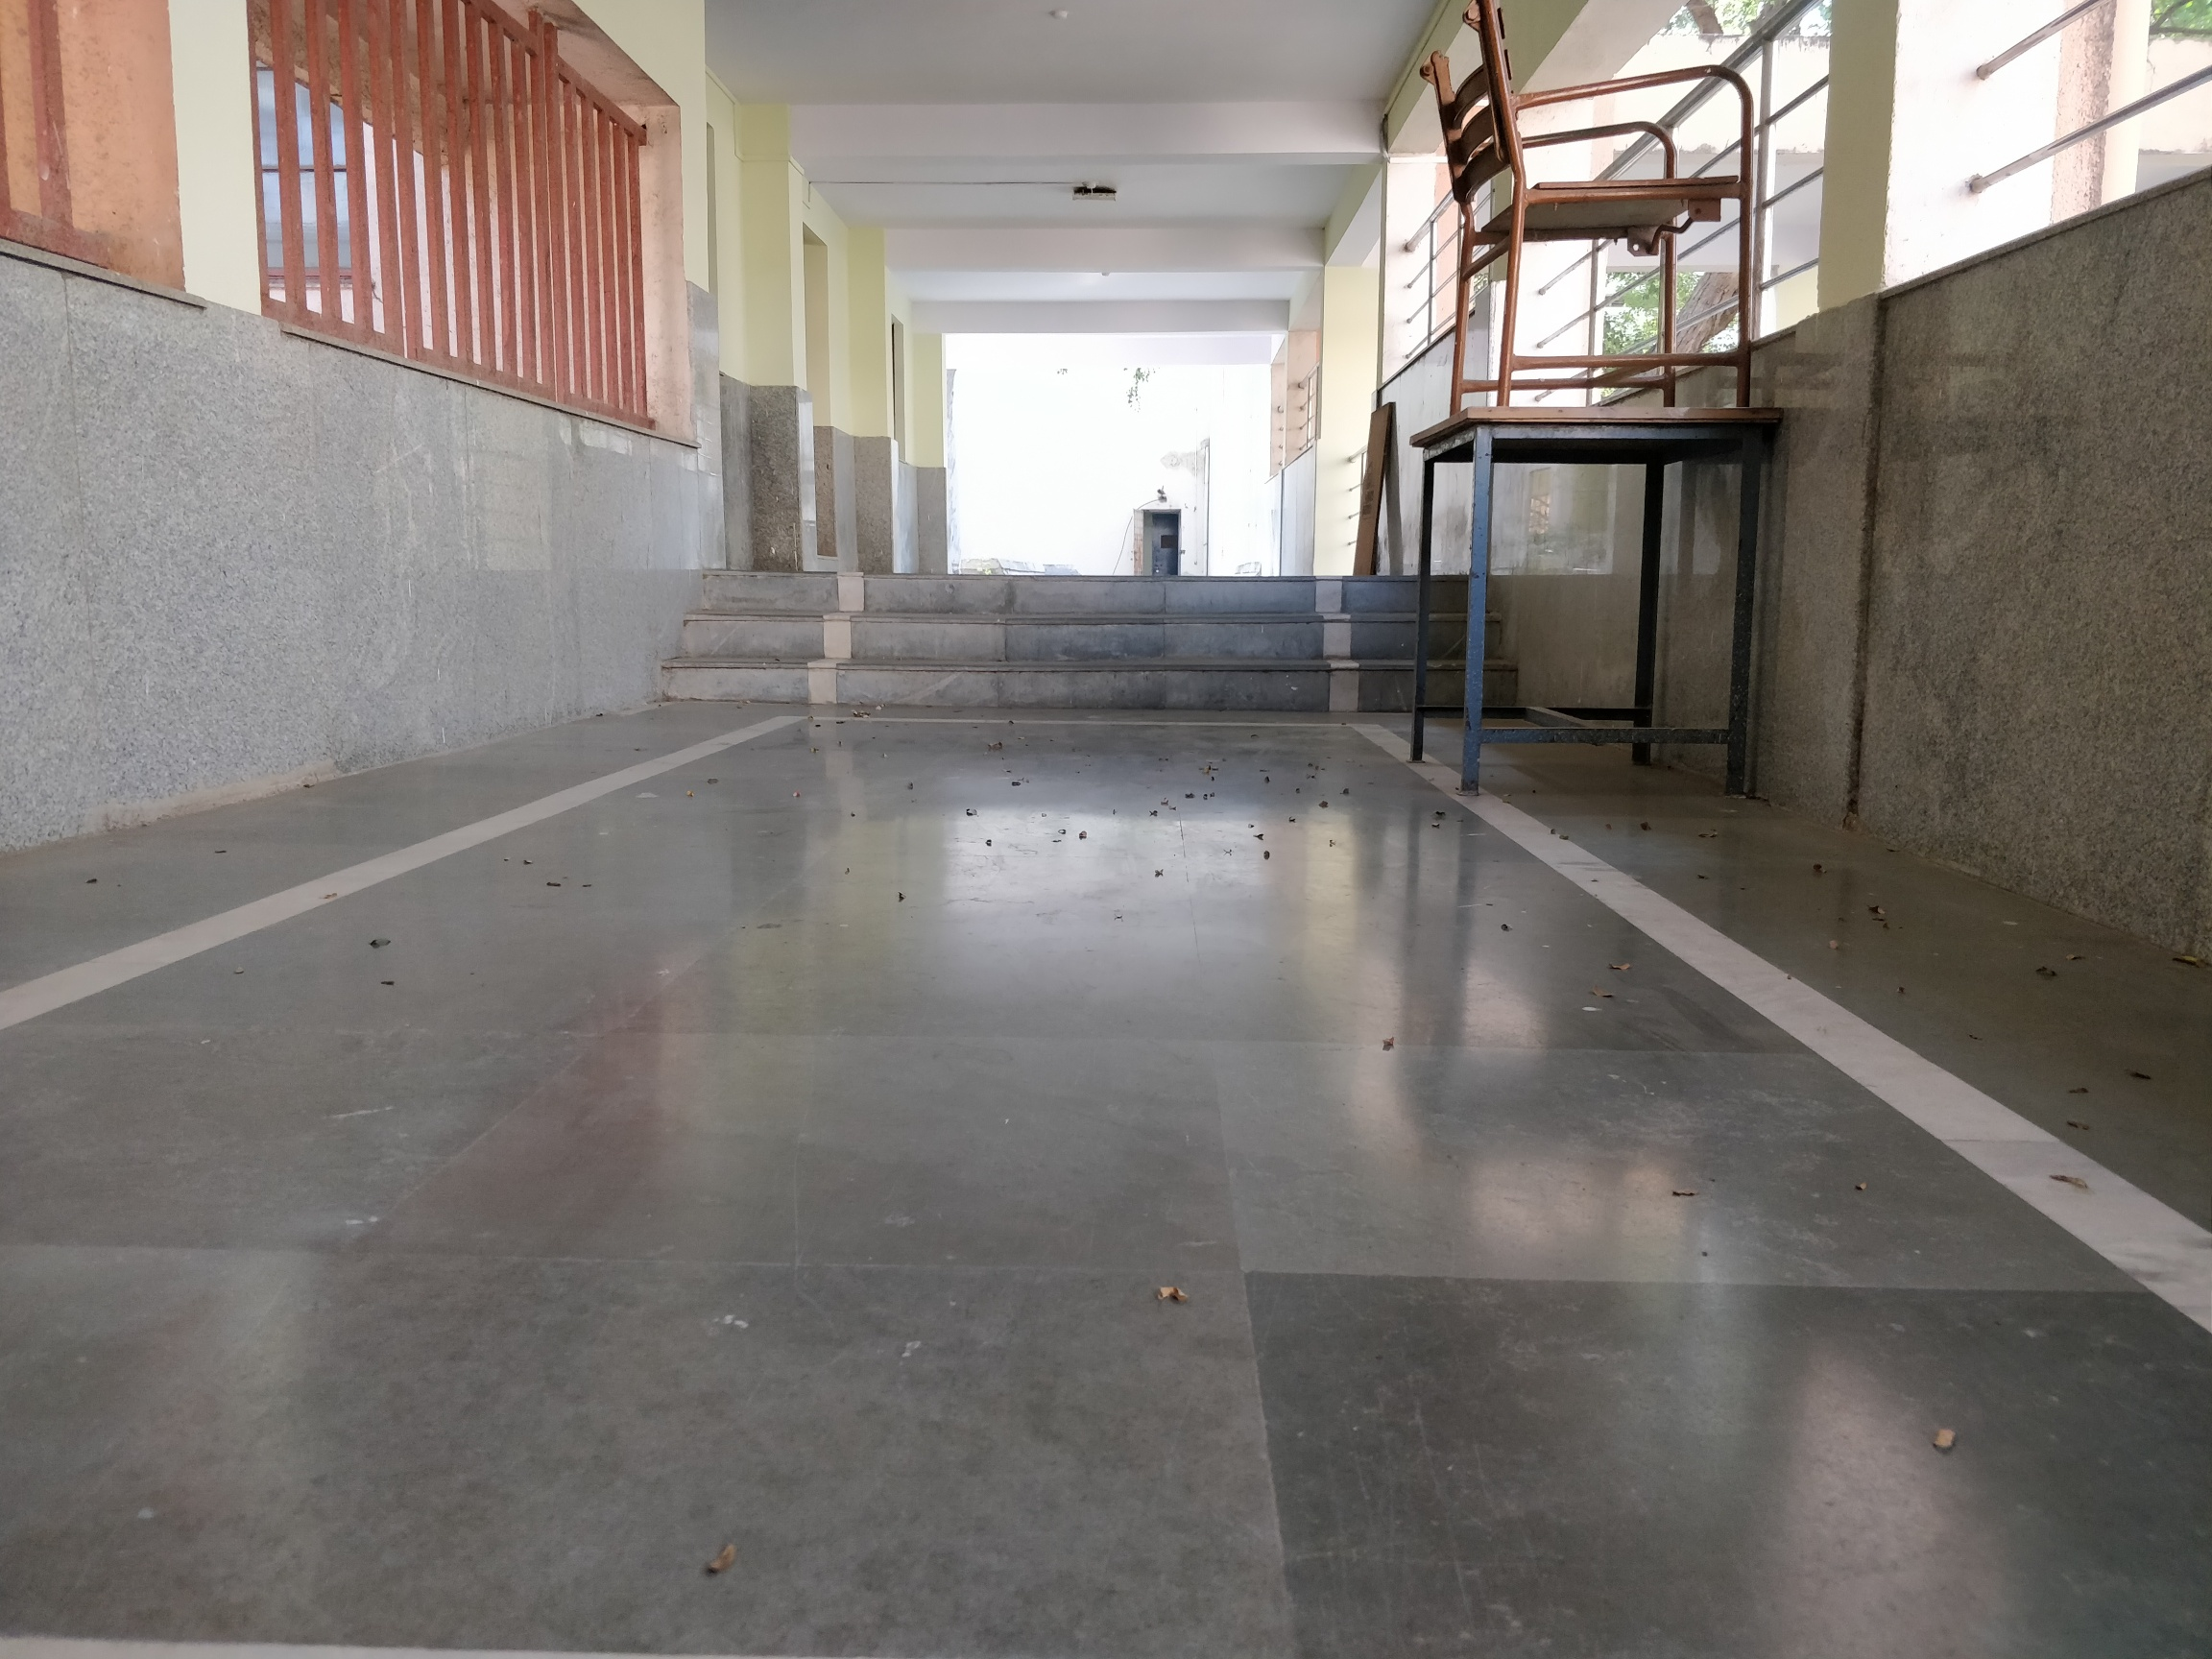stairs_up: (636, 551, 1554, 742)
